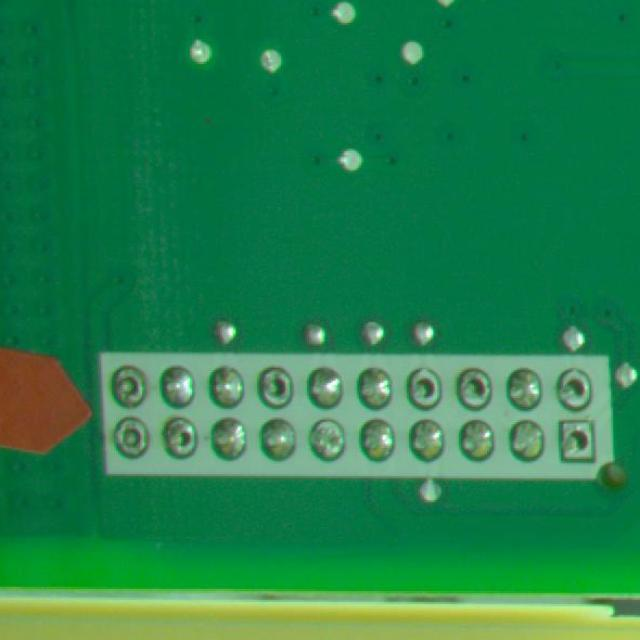low_solder: (114, 417, 149, 458), (260, 367, 293, 407), (560, 421, 593, 461), (113, 366, 145, 407), (164, 418, 196, 458), (459, 369, 491, 409), (409, 369, 441, 408), (559, 369, 590, 409)
